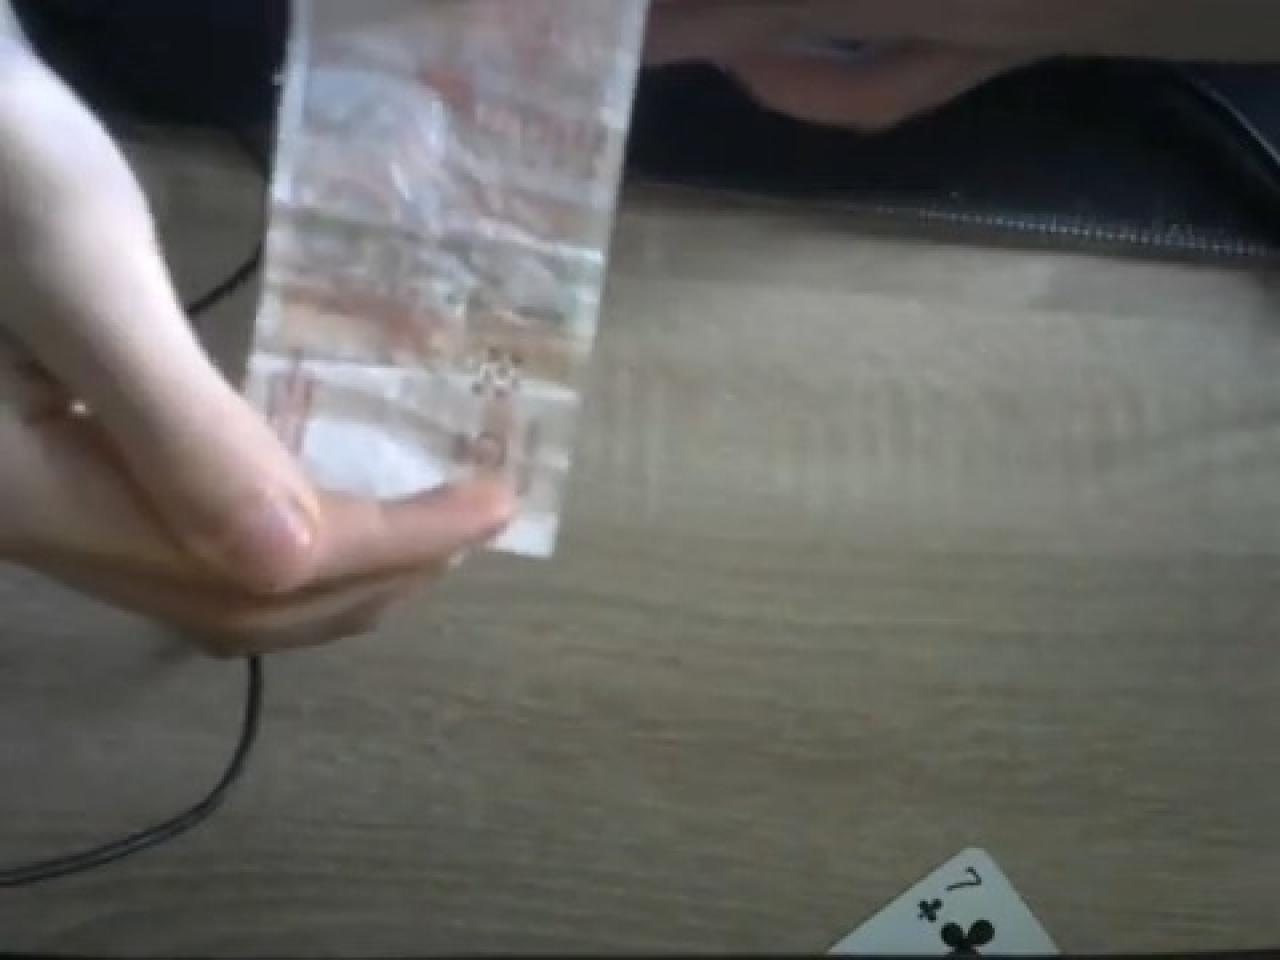5leva: (26, 0, 653, 637)
